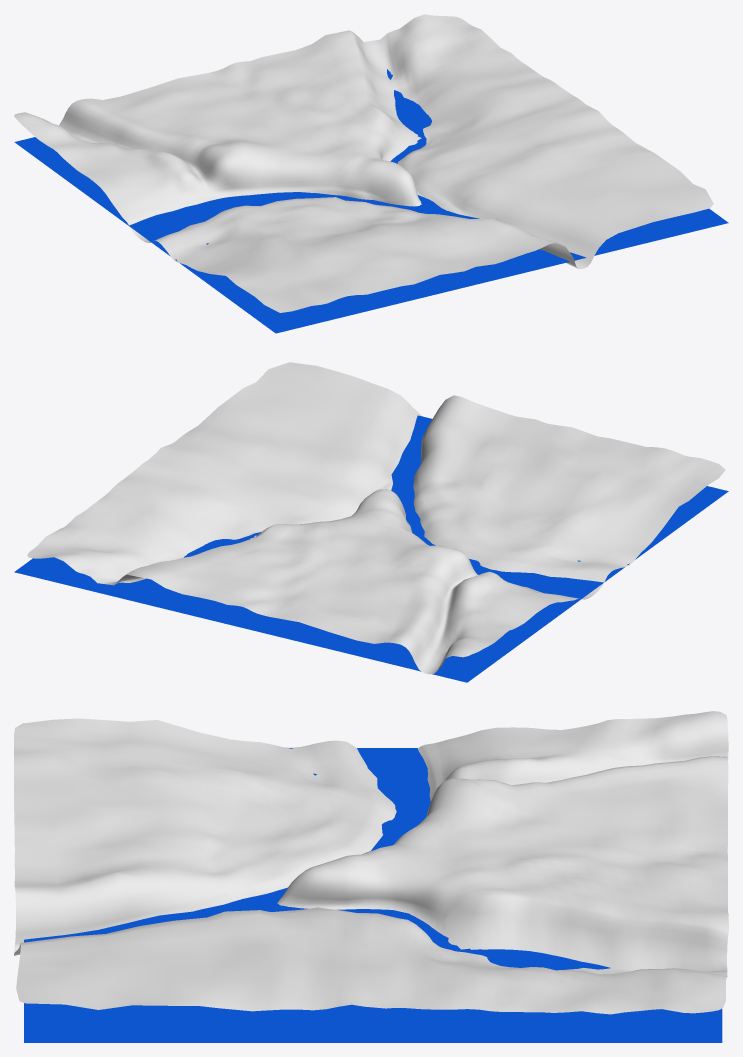
The model's file is Map.fbx.
3 renders of one model, top to bottom at view 1: azimuth 30°, elevation 25°; view 2: azimuth 150°, elevation 25°; view 3: azimuth 270°, elevation 25°, orthographic. The views are drawn at different scales.
Parts seen in each view (by area): view 1: Map, Water; view 2: Map, Water; view 3: Map, Water.
Part boxes in pixels (x1,y1,x2,y2): Map: (14,14,713,312); Water: (14,69,728,333); Map: (27,362,725,674); Water: (14,415,728,682); Map: (14,711,728,1014); Water: (24,748,722,1042).
Bounding box in the file's own units: 190766 × 16414 × 194513.
